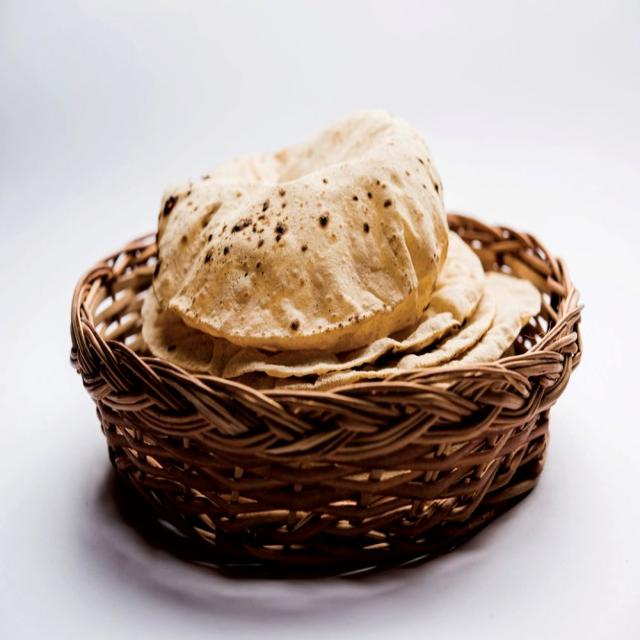CHAPATHI: (140, 106, 543, 387)
